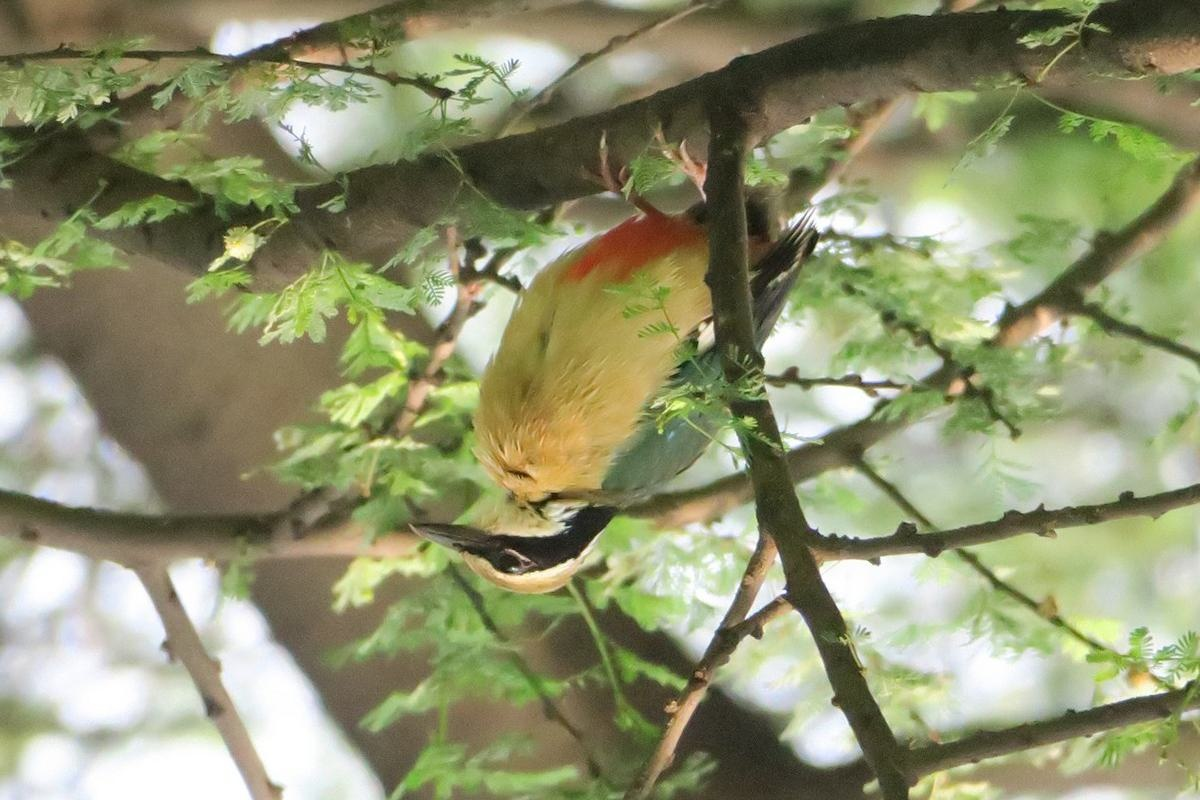pitta: (374, 164, 870, 611)
